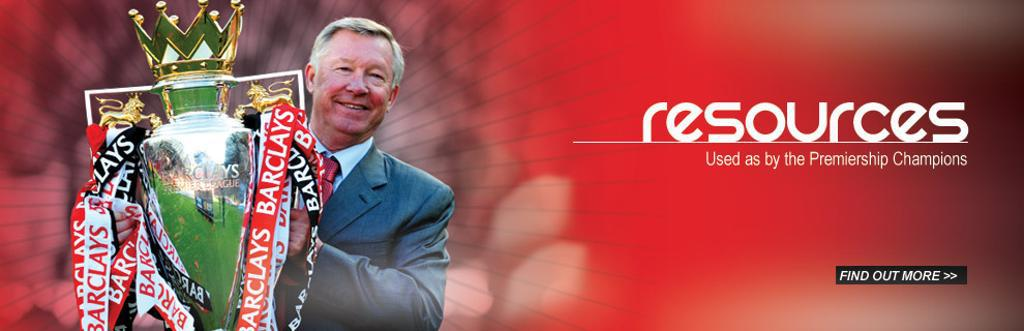face: (319, 35, 397, 131)
